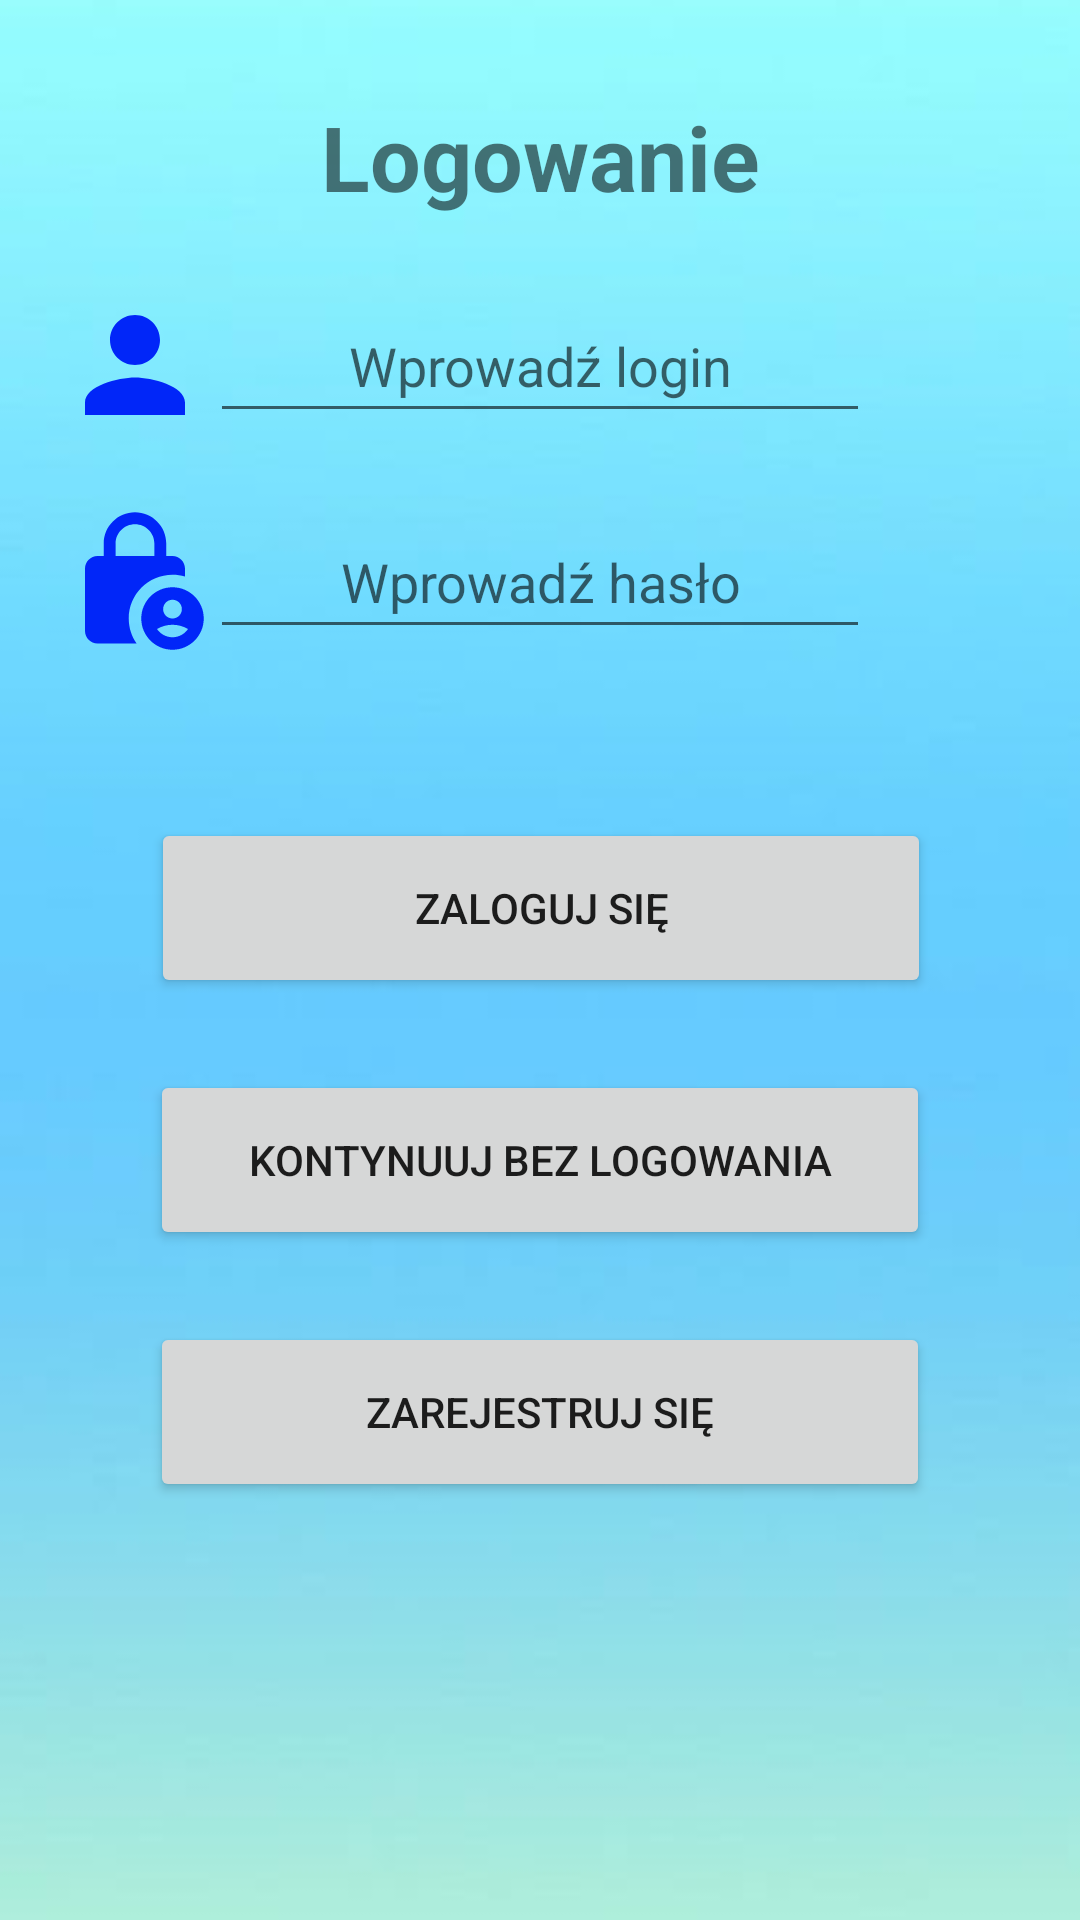

Named icons in this screenshot (1080x1920) and their centers, (x=x, y=y):
lock person: (x=144, y=581)
person: (x=135, y=365)
